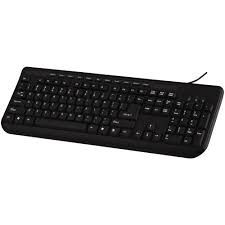keyboard: (0, 60, 223, 166)
